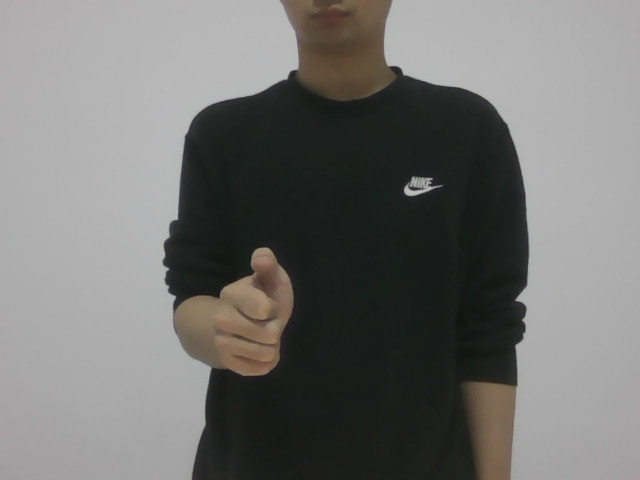thank you: (212, 245, 295, 382)
